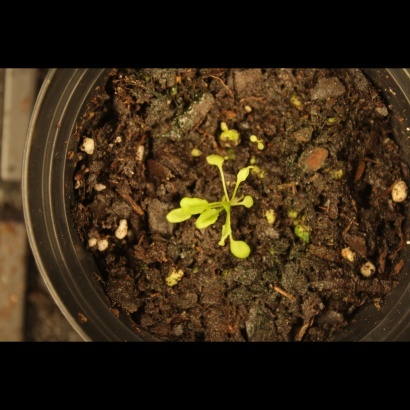leaf: (177, 192, 216, 215), (163, 205, 196, 229), (203, 144, 227, 173), (191, 209, 221, 232), (233, 161, 258, 187), (229, 238, 253, 261), (209, 223, 232, 246), (241, 191, 264, 214)
